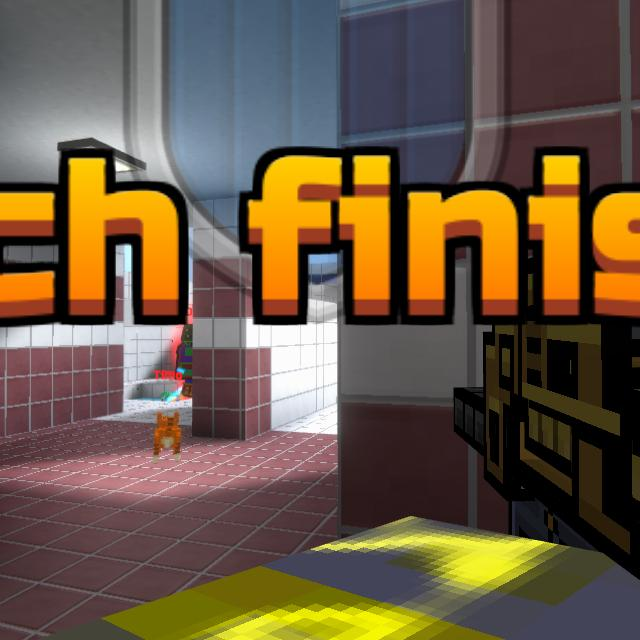Enemy: (175, 326, 193, 397)
